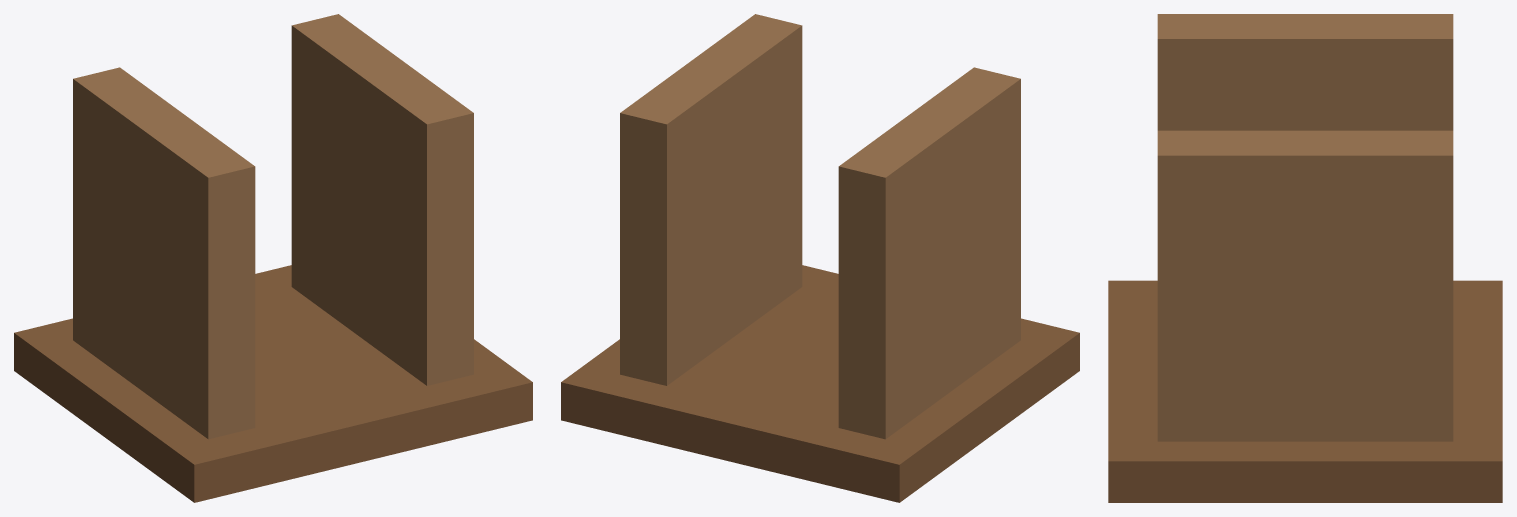
The model's file is Pulley_Floor_Stand.glb.
3 views of the same model, side by side, from view 1: azimuth 30°, elevation 25°; view 2: azimuth 150°, elevation 25°; view 3: azimuth 270°, elevation 25° (orthographic). The views are drawn at different scales.
Visible parts, largest first — view 1: Pulley_Floor_Stand; view 2: Pulley_Floor_Stand; view 3: Pulley_Floor_Stand.
Boxes of the visible parts, x1,y1,x2,y2 form: Pulley_Floor_Stand: [14, 14, 532, 502]; Pulley_Floor_Stand: [561, 14, 1079, 502]; Pulley_Floor_Stand: [1108, 14, 1502, 502].
Bounding box in the file's own units: 1.3 × 1.1 × 1.2.
